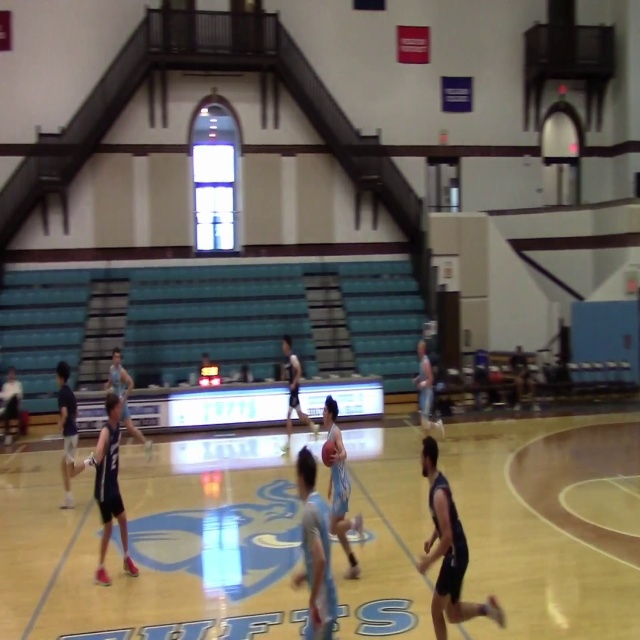Basketball: (321, 440, 339, 467)
